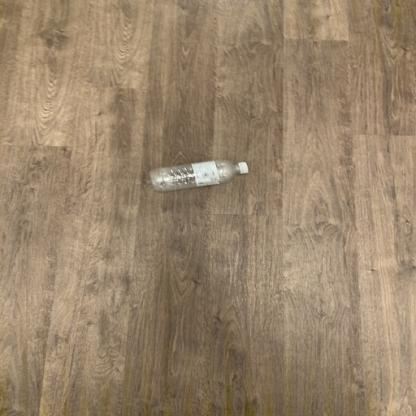trash: (148, 160, 251, 194)
